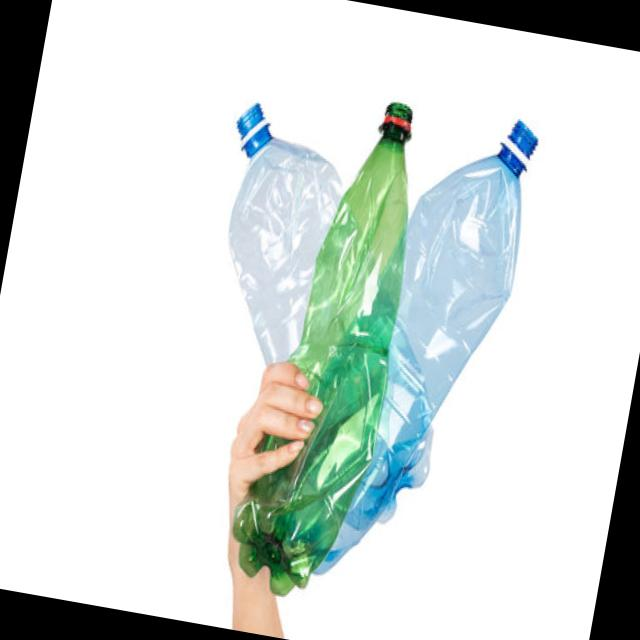plastic_bottle: (204, 66, 604, 614), (224, 78, 436, 613)
